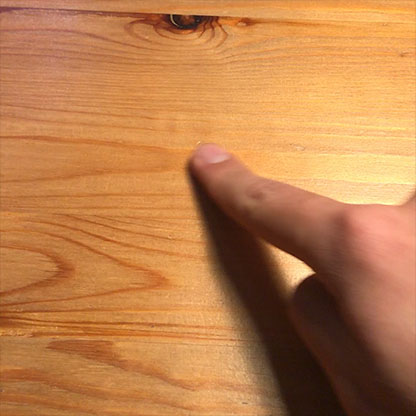fingertip: (182, 134, 244, 181)
